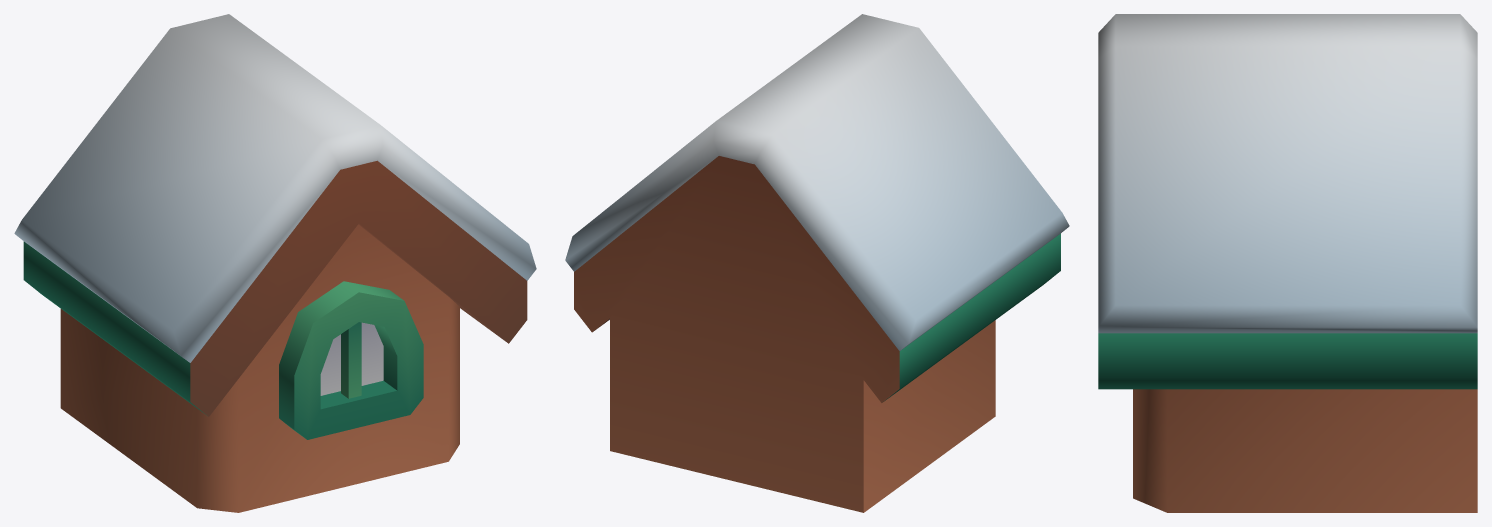
File: cabin-roof-snow-dormer.glb
3 renders of one model, left to right at view 1: azimuth 30°, elevation 25°; view 2: azimuth 150°, elevation 25°; view 3: azimuth 270°, elevation 25°, orthographic. The views are drawn at different scales.
Parts seen in each view (by area): view 1: cabin-roof-snow-dormer; view 2: cabin-roof-snow-dormer; view 3: cabin-roof-snow-dormer.
Part boxes in pixels (left/top/right/bottom): cabin-roof-snow-dormer: left=14, top=14, right=536, bottom=512; cabin-roof-snow-dormer: left=565, top=14, right=1069, bottom=512; cabin-roof-snow-dormer: left=1098, top=14, right=1477, bottom=512.
Bounding box in the file's own units: 1.35 × 1.31 × 1.1.
